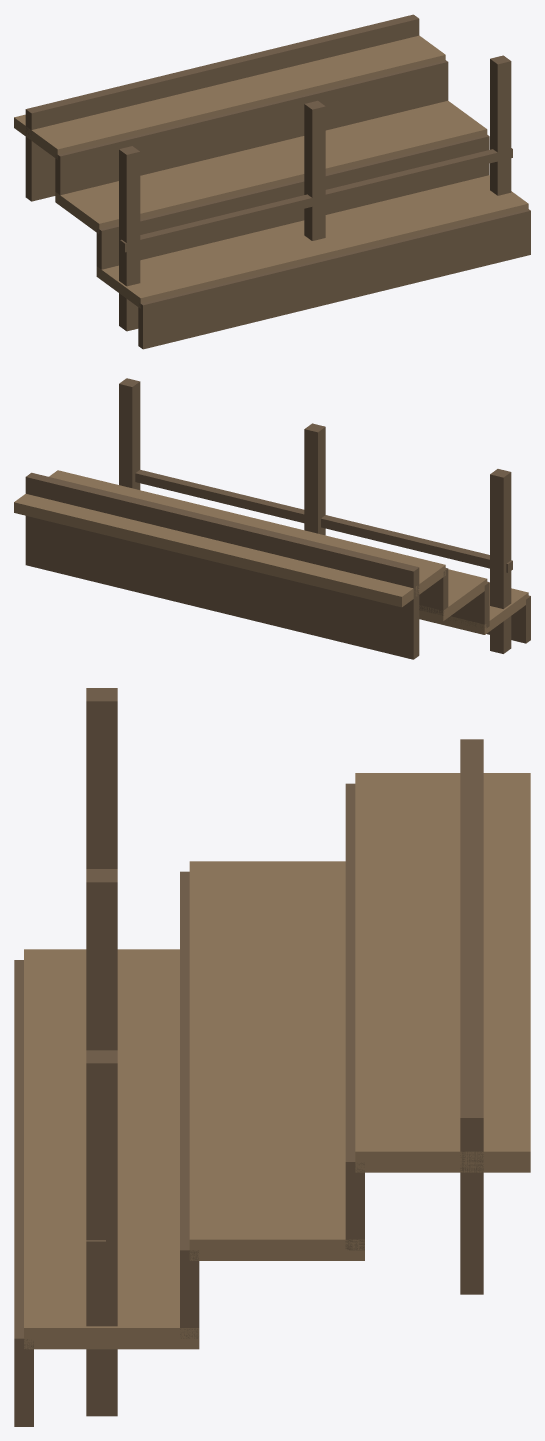
The model's file is stand_section.glb.
3 views of the same model, one above another, from view 1: azimuth 30°, elevation 25°; view 2: azimuth 150°, elevation 25°; view 3: azimuth 270°, elevation 25° (orthographic). The views are drawn at different scales.
Parts seen in each view (by area): view 1: stand_section; view 2: stand_section; view 3: stand_section.
Part boxes in pixels (x1,y1,x2,y2): stand_section: (14,14,530,349); stand_section: (14,378,530,659); stand_section: (14,688,530,1426).
Size of the model in its own units: 4.6 by 2.05 by 2.65.
